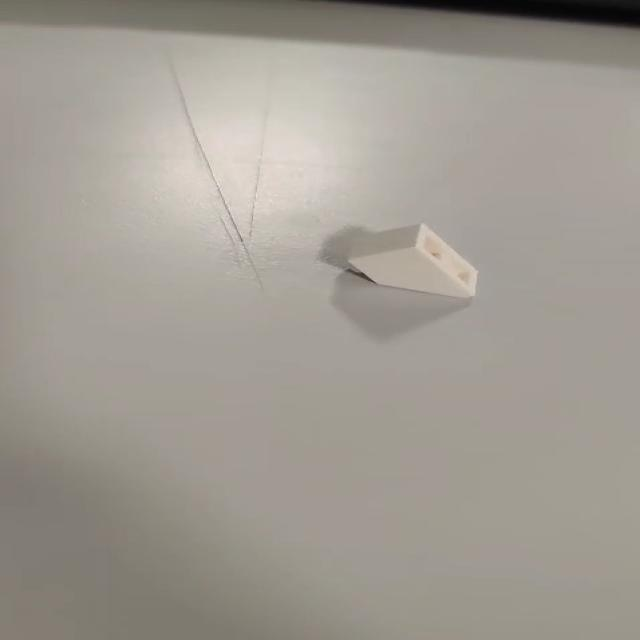P1x2x1: (337, 225, 479, 300)
